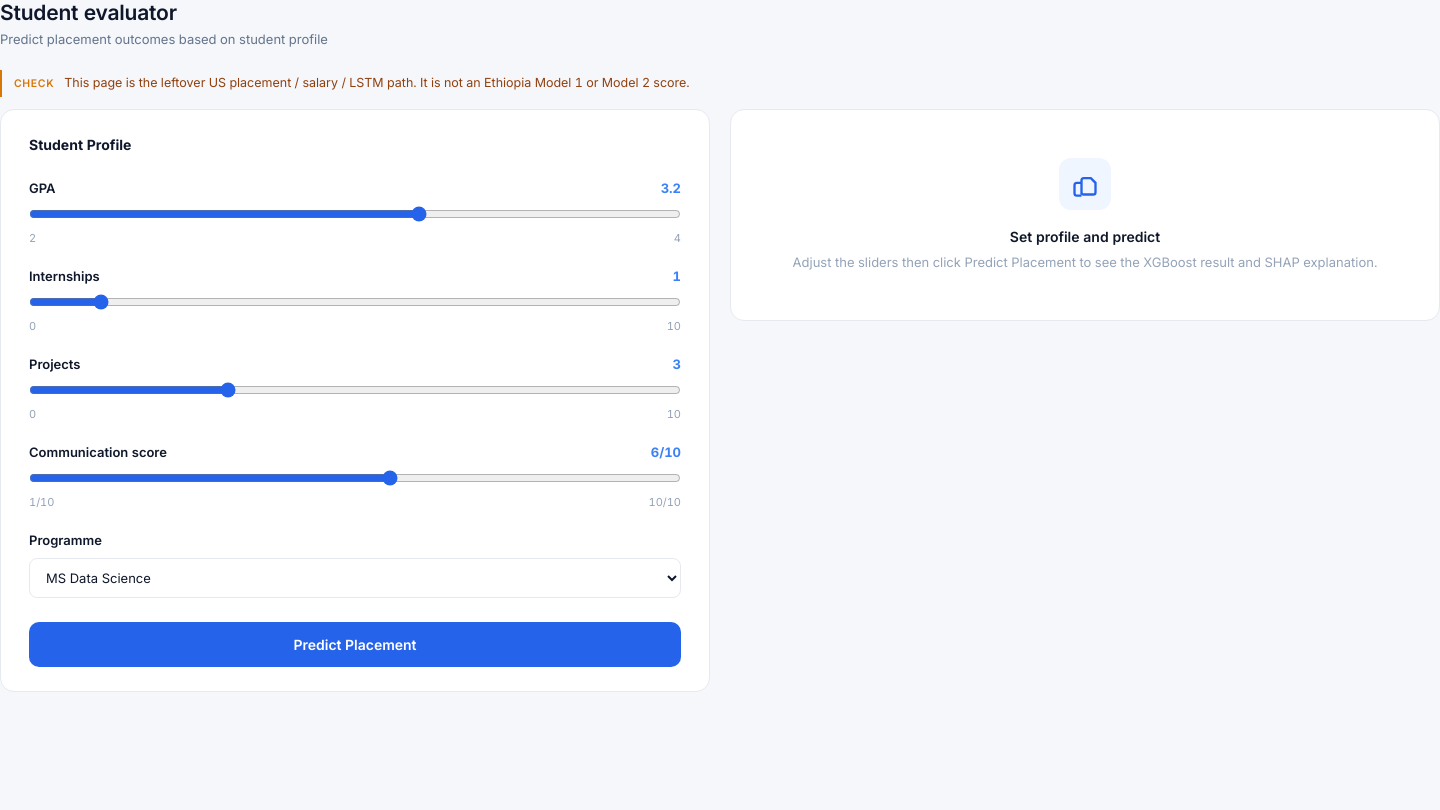
Test case: StudentEvaluatorPage — successful prediction › shows probability % after submission
Click the button "Predict Placement" at (355, 644), box [29,622,681,667]
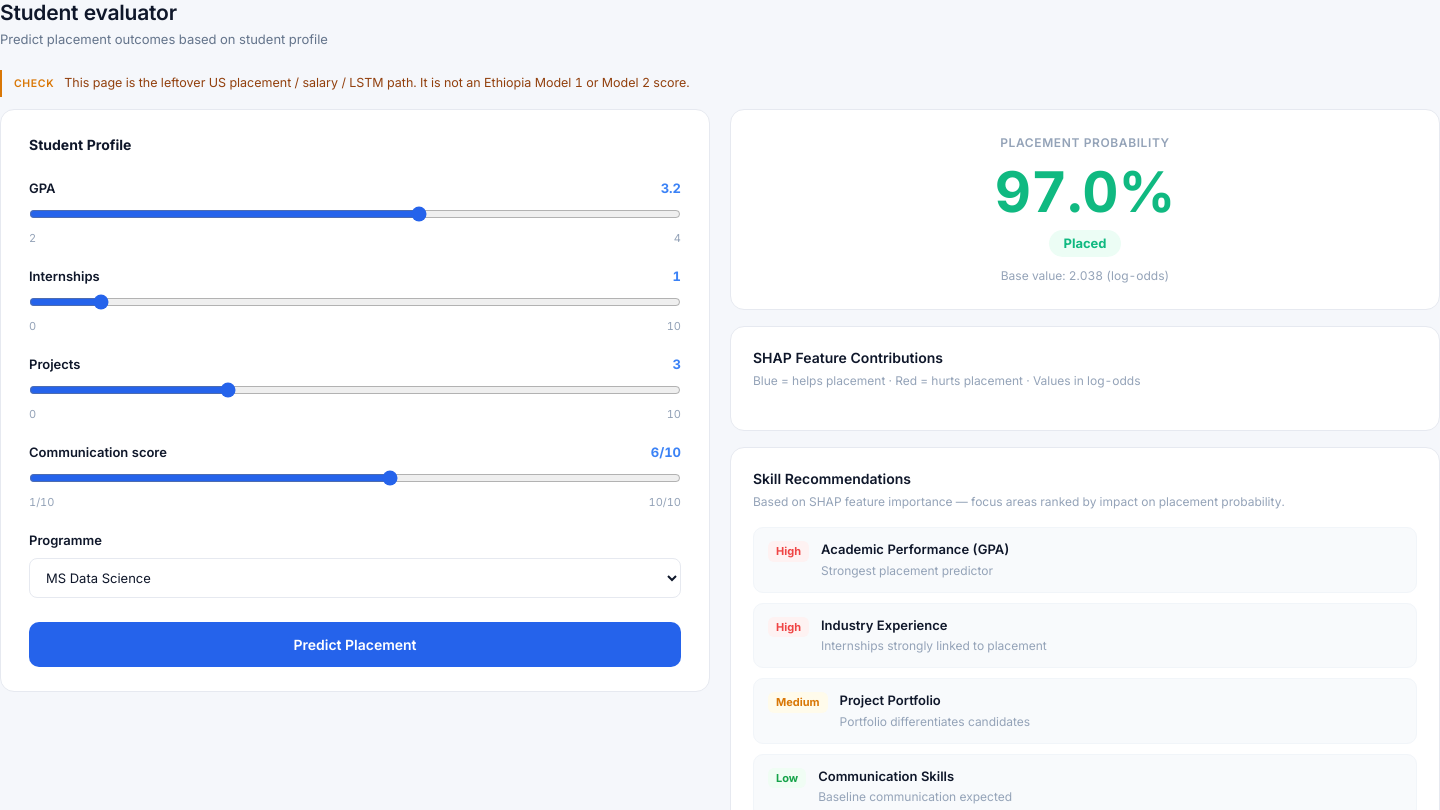
Now the text "97.0%" is shown, box [995,158,1175,226]
